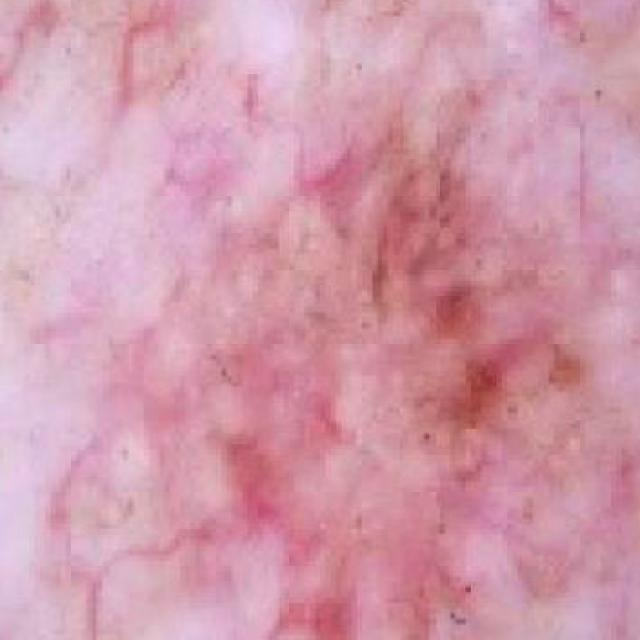AKIEC: (63, 31, 640, 639)
